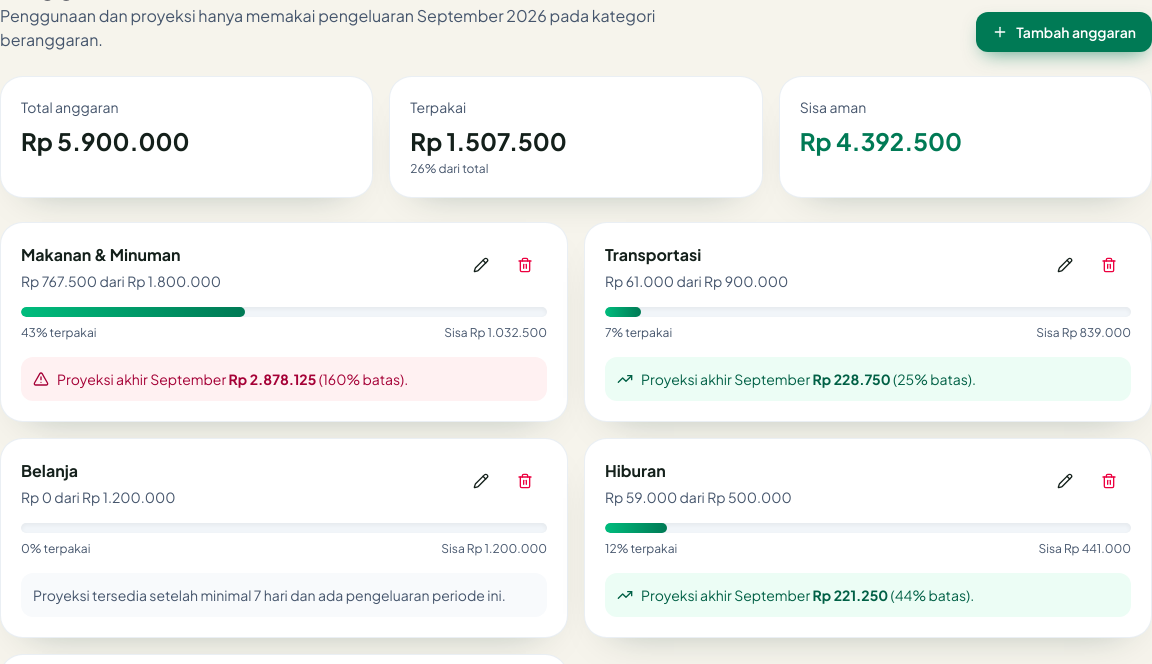
budget and goal UI › reports budget use accessibly and creates a new category budget
The width and height of the screenshot is (1152, 664).
Click the button "Tambah anggaran" at (1064, 32), box left=976, top=12, right=1151, bottom=52
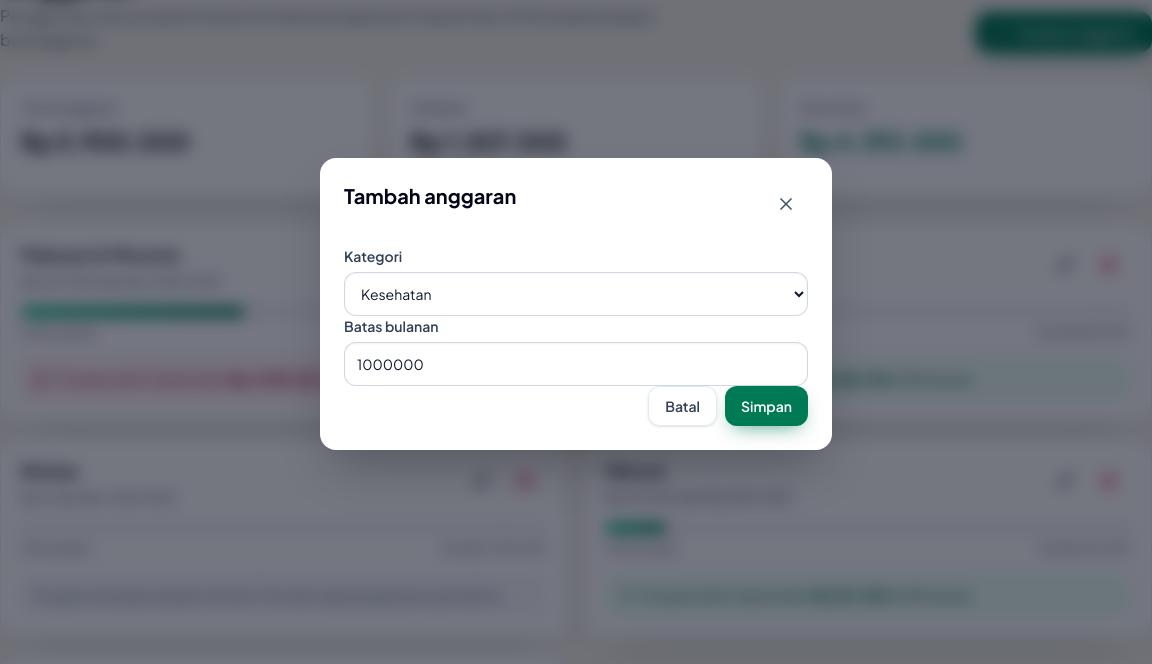
Now the dropdown labelled "Kategori" shows "Kesehatan", box left=344, top=272, right=808, bottom=316
Replace the text in the number field labelled "Batas bulanan" with "750000" at (576, 364), box left=344, top=342, right=808, bottom=386
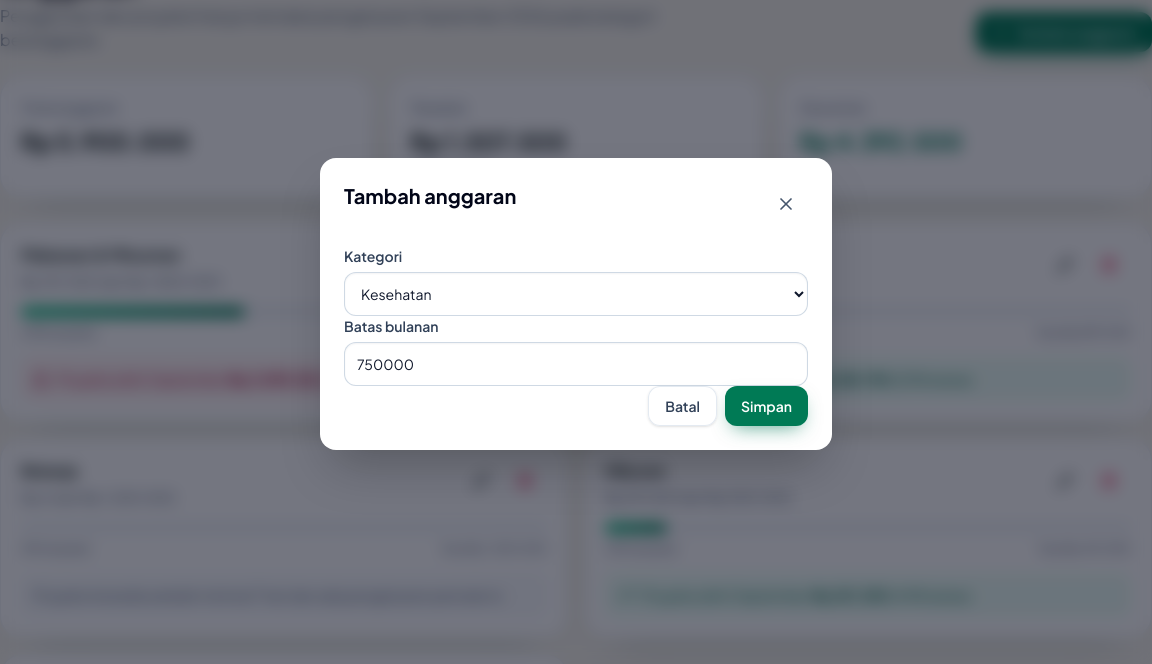
Click the button "Simpan" at (766, 406), box left=725, top=386, right=808, bottom=426
(page scrolled)
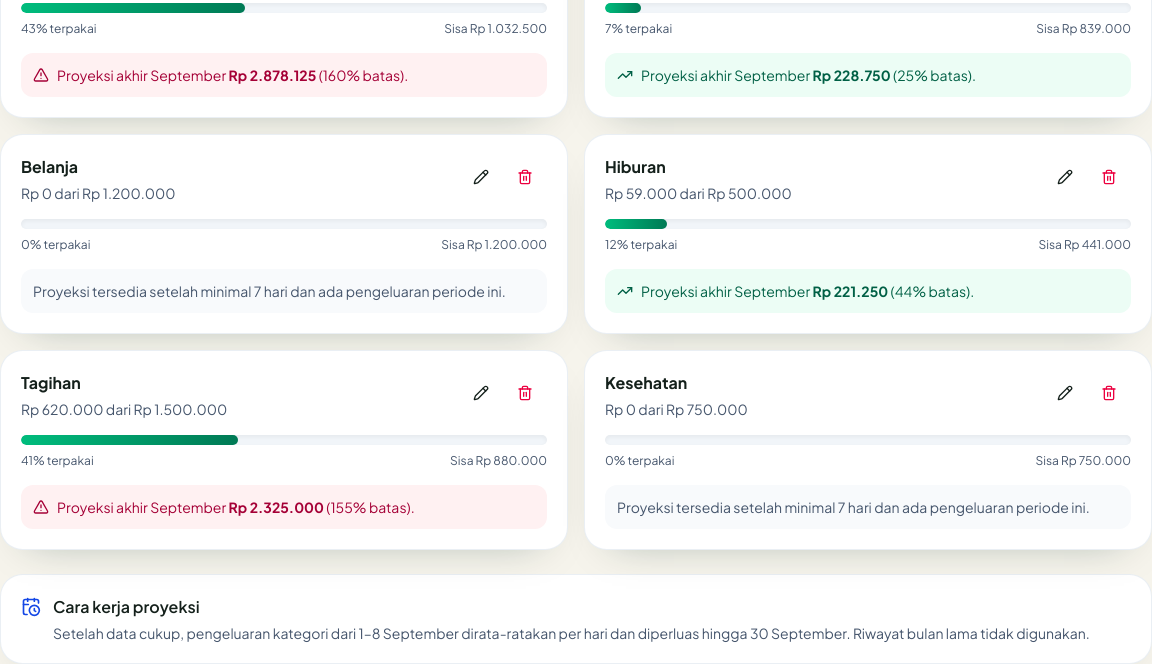
Now the heading "Kesehatan" is shown, box left=605, top=372, right=687, bottom=393
Now the element "Kesehatan" is shown, box left=584, top=350, right=1151, bottom=550
